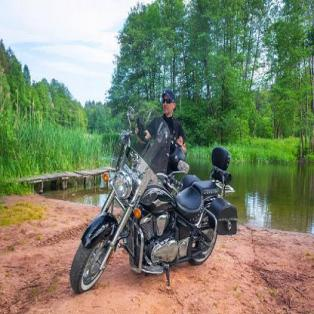Motocicleta: (68, 115, 238, 302)
